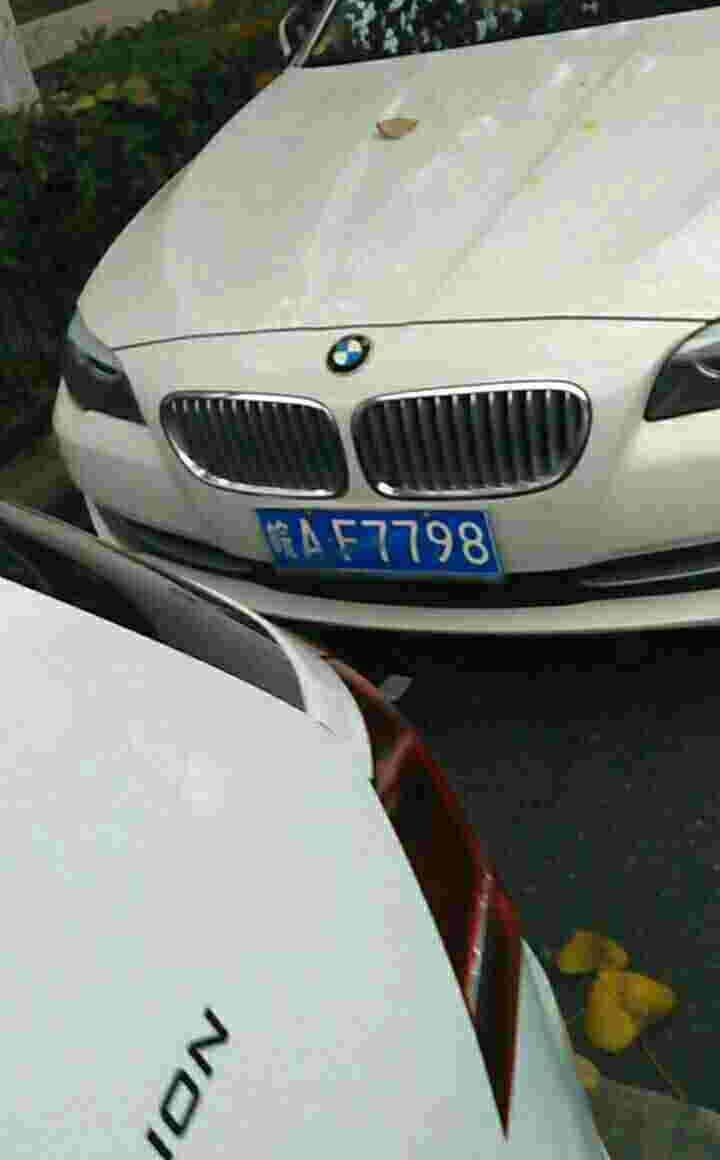license_plate: (254, 503, 502, 574)
